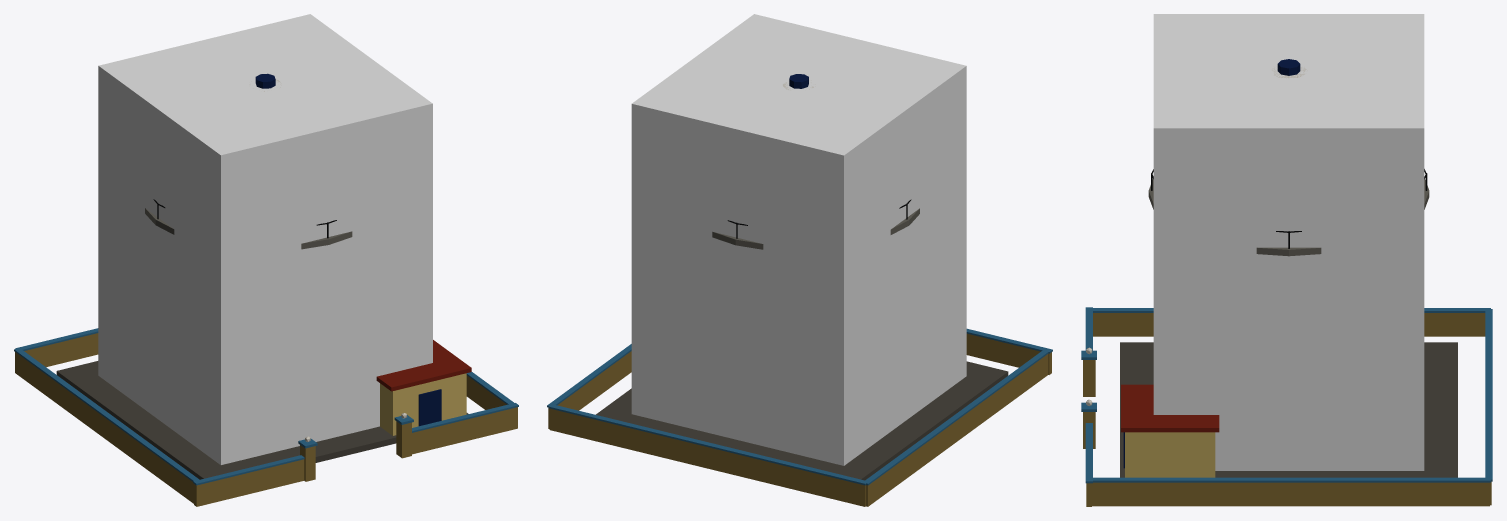
Rendered from B25_water_tower.glb.
3 renders of one model, left to right at view 1: azimuth 30°, elevation 25°; view 2: azimuth 150°, elevation 25°; view 3: azimuth 270°, elevation 25°, orthographic. The views are drawn at different scales.
Parts seen in each view (by area): view 1: COL_Main, LOD0; view 2: COL_Main, LOD0; view 3: COL_Main, LOD0.
Part boxes in pixels (bbox=[...]): COL_Main: bbox=[98, 14, 432, 464]; LOD0: bbox=[14, 73, 518, 506]; COL_Main: bbox=[631, 14, 966, 465]; LOD0: bbox=[547, 74, 1052, 506]; COL_Main: bbox=[1153, 14, 1424, 470]; LOD0: bbox=[1081, 59, 1492, 506].
Size of what is drawn, in the model's own units: 20.08 by 19.2 by 20.06.
